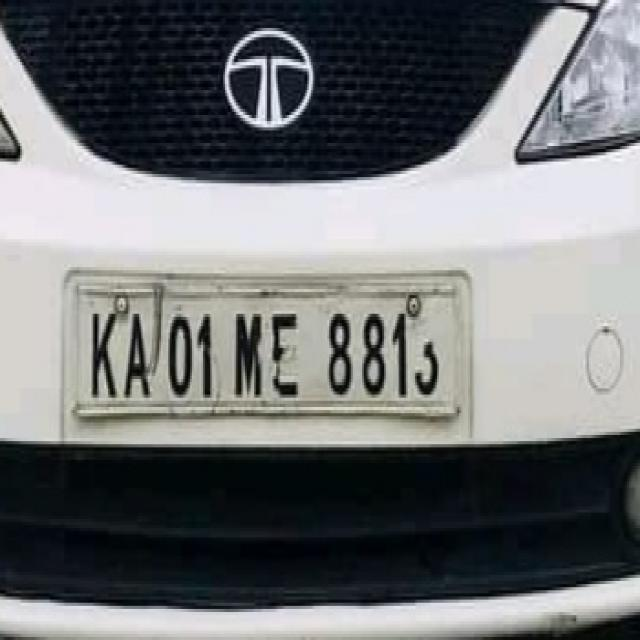0: (164, 304, 195, 402)
1: (193, 306, 221, 398), (388, 306, 411, 414)
3: (415, 306, 444, 412)
7: (87, 300, 119, 406)
8: (359, 298, 391, 409), (326, 302, 356, 406)
A: (124, 302, 154, 404)
E: (267, 297, 305, 409)
M: (232, 301, 267, 413)
